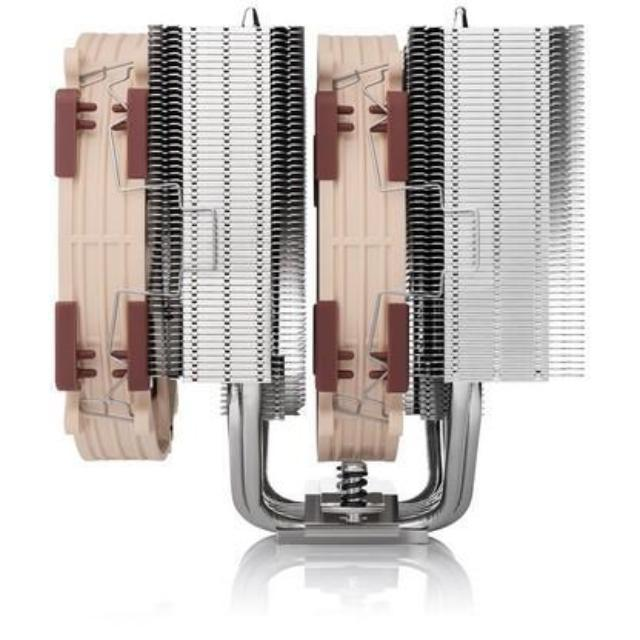CPU_Fan: (57, 25, 586, 542)
